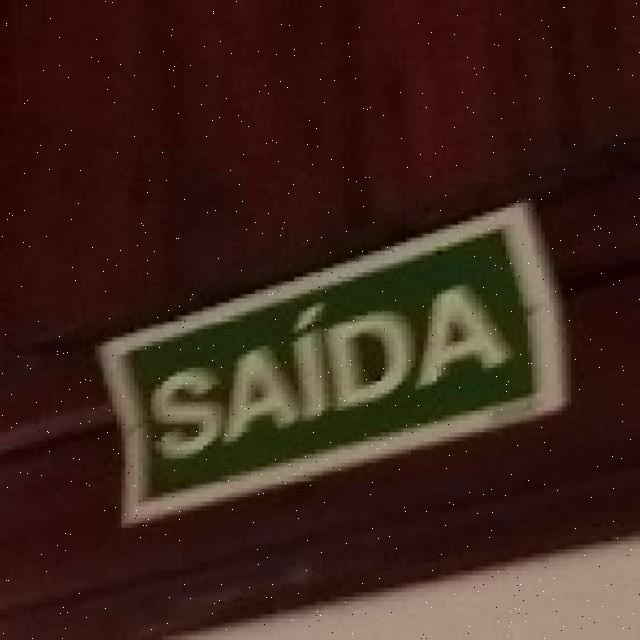emergency_exit: (95, 198, 572, 529)
